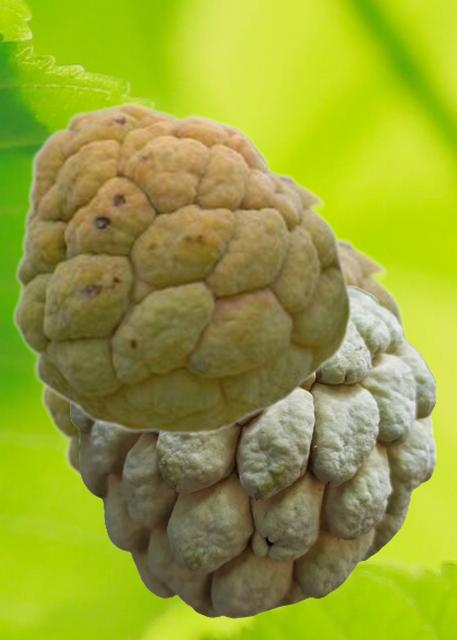atis: (68, 283, 436, 617), (11, 101, 351, 434), (39, 233, 411, 483)
